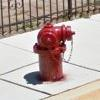Hydrant: (27, 15, 80, 90)
